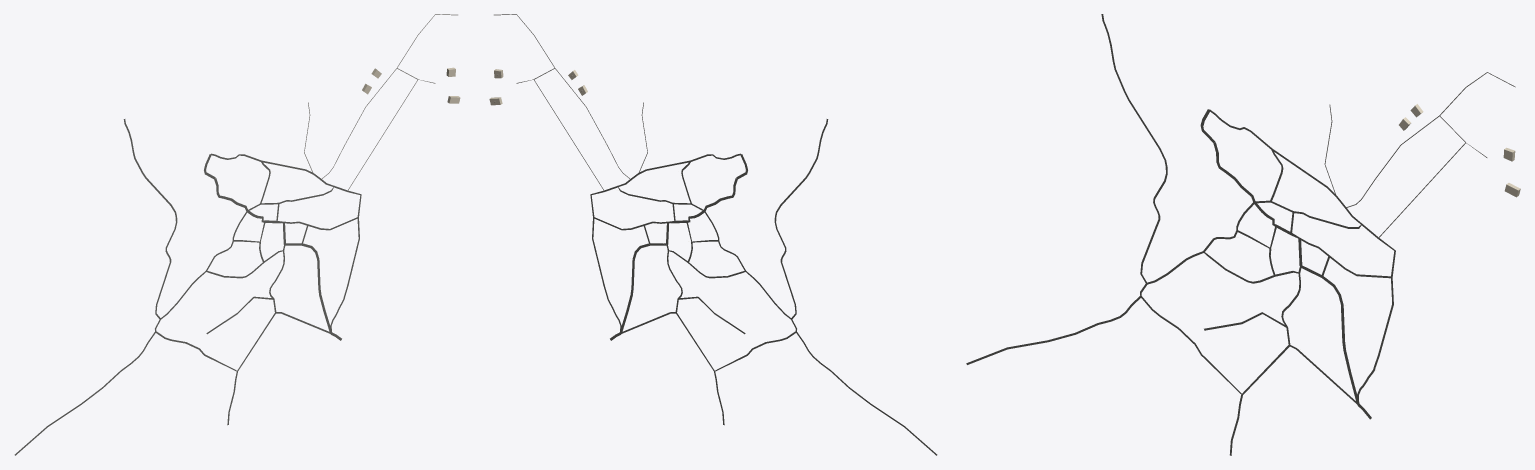
Rendered from historic-palestine-11_29_3531_3236.glb.
The picture shows the model from 3 angles, left to right: view 1: azimuth 30°, elevation 25°; view 2: azimuth 150°, elevation 25°; view 3: azimuth 330°, elevation 25°; orthographic projection. The views are drawn at different scales.
Visible parts, largest first — view 1: Road Sair area.012, Road .003; view 2: Road Sair area.012, Road .003; view 3: Road Sair area.012, Road .003.
Part boxes in pixels (x1,y1,x2,y2): Road Sair area.012: [155, 250, 284, 371]; Road .003: [123, 119, 177, 319]; Road Sair area.012: [667, 250, 796, 371]; Road .003: [774, 119, 828, 318]; Road Sair area.012: [1140, 251, 1300, 395]; Road .003: [1101, 14, 1167, 283].
Size of the model in its own units: 961 by 742 by 8.7.
